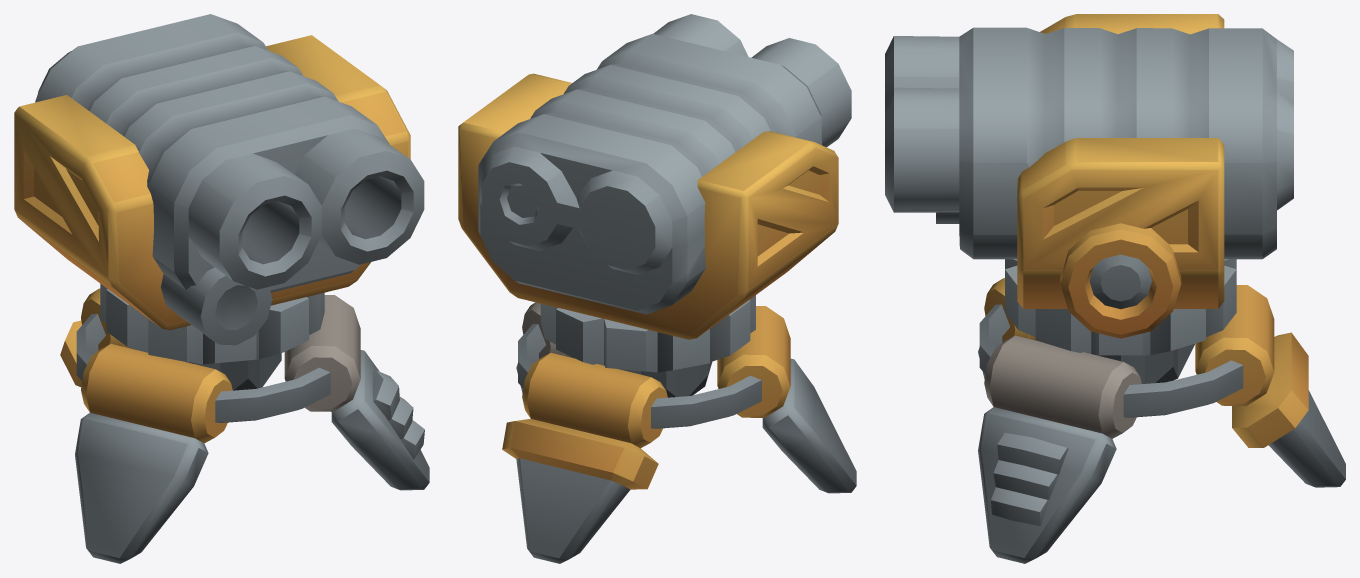
File: turret_base.gltf
3 views of the same model, side by side, from view 1: azimuth 30°, elevation 25°; view 2: azimuth 150°, elevation 25°; view 3: azimuth 270°, elevation 25° (orthographic). The views are drawn at different scales.
Visible parts, largest first — view 1: turret_gun, turret_footC, turret_base, turret_footA, turret_footB; view 2: turret_gun, turret_footB, turret_base, turret_footC, turret_footA; view 3: turret_gun, turret_footA, turret_base, turret_footB, turret_footC.
Boxes of the visible parts, x1,y1,x2,y2 form: turret_gun: (14,14,424,345); turret_footC: (75,343,232,563); turret_base: (76,284,330,422); turret_footA: (284,295,429,490); turret_footB: (60,288,135,386); turret_gun: (458,14,851,339); turret_footB: (502,352,667,563); turret_base: (518,295,761,428); turret_footC: (717,306,856,493); turret_footA: (516,302,574,393); turret_gun: (885,14,1293,338); turret_footA: (978,335,1141,563); turret_base: (979,259,1243,417); turret_footB: (1195,285,1345,487); turret_footC: (978,278,1035,379).
Bounding box in the file's own units: 0.9998 × 1.13 × 1.13.
1 material, 1 textured.
